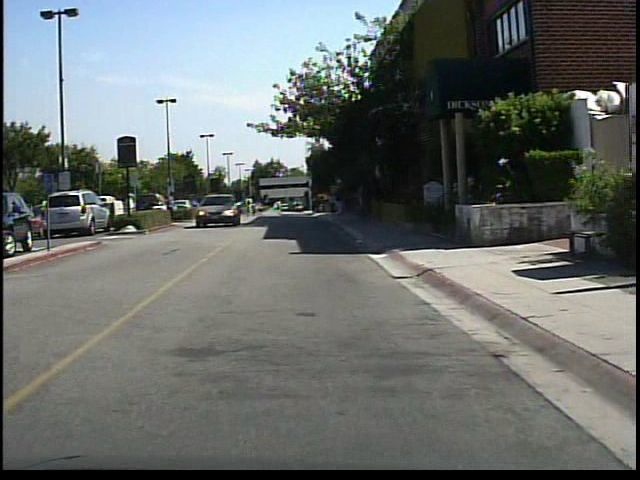person: (162, 188, 181, 225), (124, 192, 138, 229), (243, 192, 259, 223), (125, 190, 137, 230), (341, 179, 342, 218)
